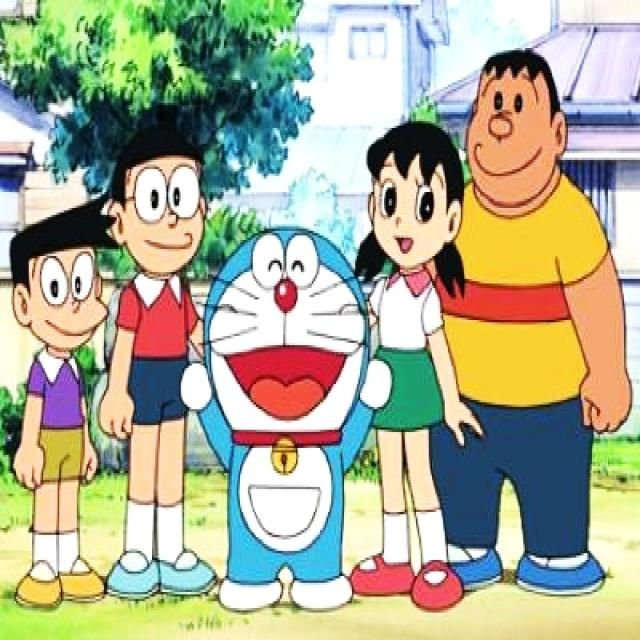doraemon: (184, 217, 392, 496)
jaian: (454, 34, 576, 254)
nobita: (102, 128, 218, 311)
shizuka: (346, 117, 482, 306)
suneo: (2, 185, 118, 373)
